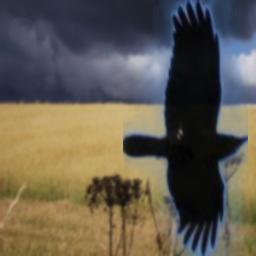Crow: (123, 0, 248, 256)
